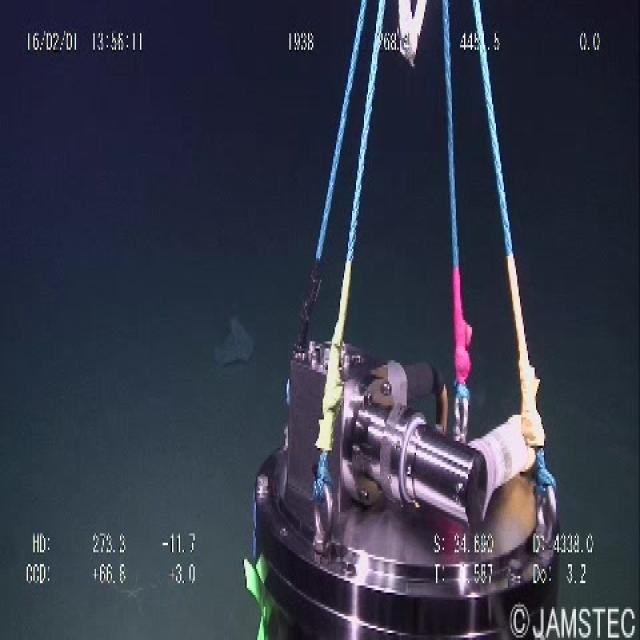plastic: (205, 304, 260, 374)
